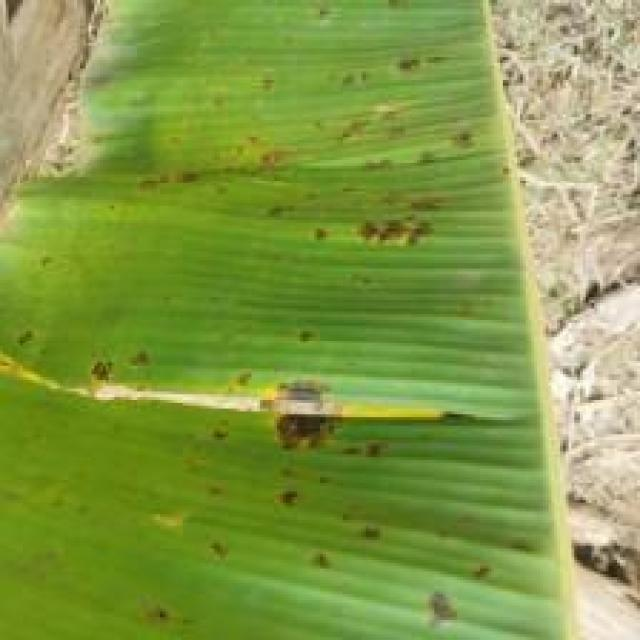Downey_mildrew: (1, 310, 548, 640), (0, 3, 525, 266)
